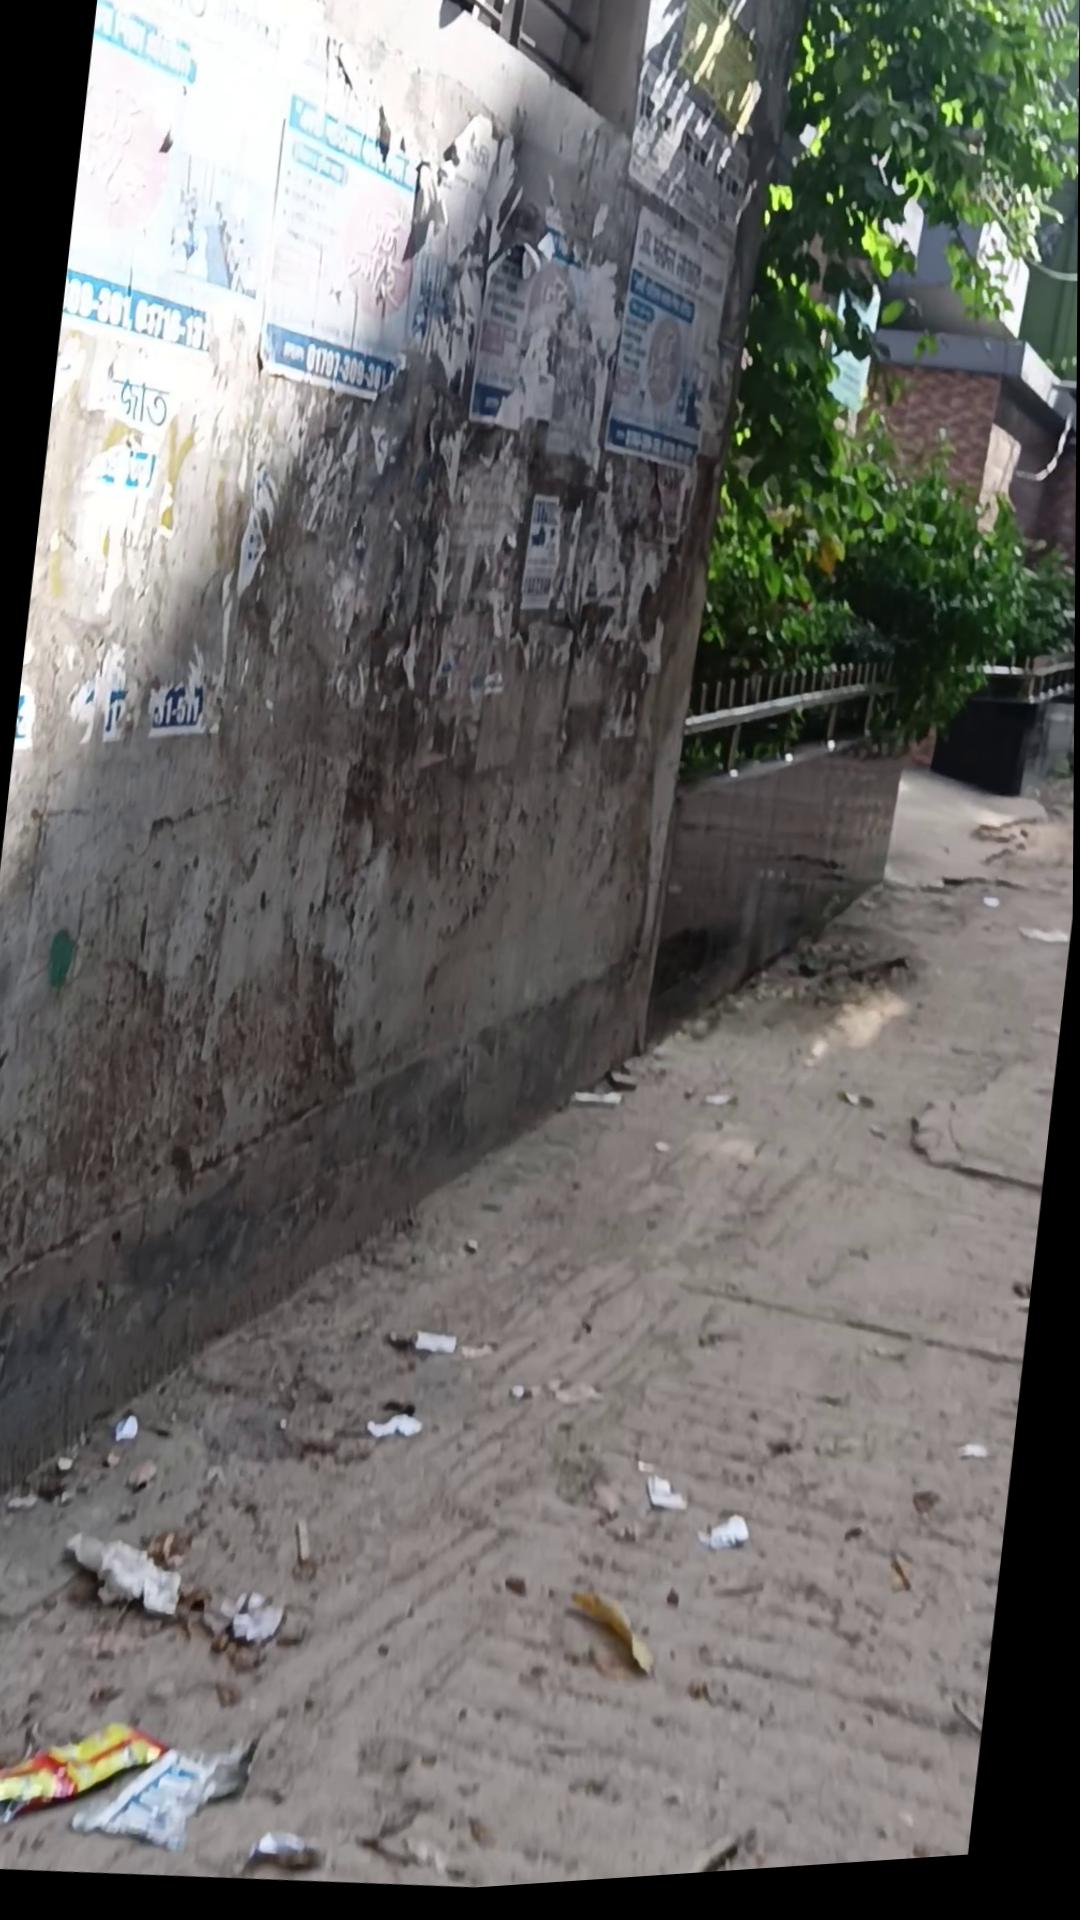Potted-plant: (0, 632, 1076, 1920)
Tree: (642, 717, 911, 1081)
